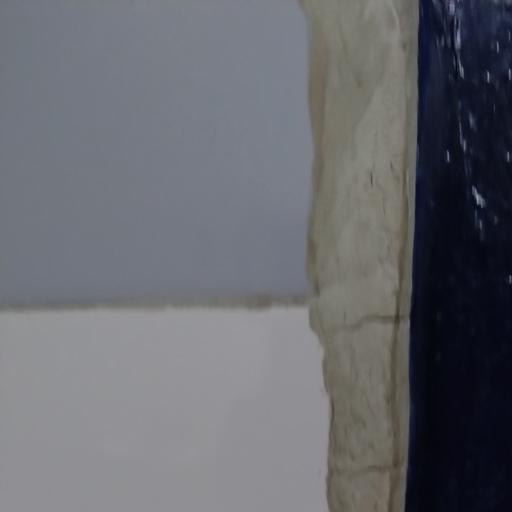spalling: (296, 0, 416, 512)
